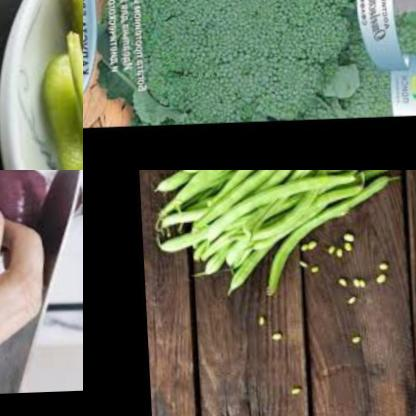beans: (138, 170, 380, 299), (51, 0, 83, 170), (321, 232, 353, 261), (330, 277, 364, 292), (296, 261, 321, 276), (342, 335, 364, 348), (336, 297, 359, 308), (280, 386, 298, 400), (297, 244, 315, 255), (367, 274, 382, 287), (252, 311, 261, 331), (266, 334, 278, 347), (371, 263, 383, 273)
broccoli: (102, 0, 375, 128)
onion: (0, 170, 46, 265)
